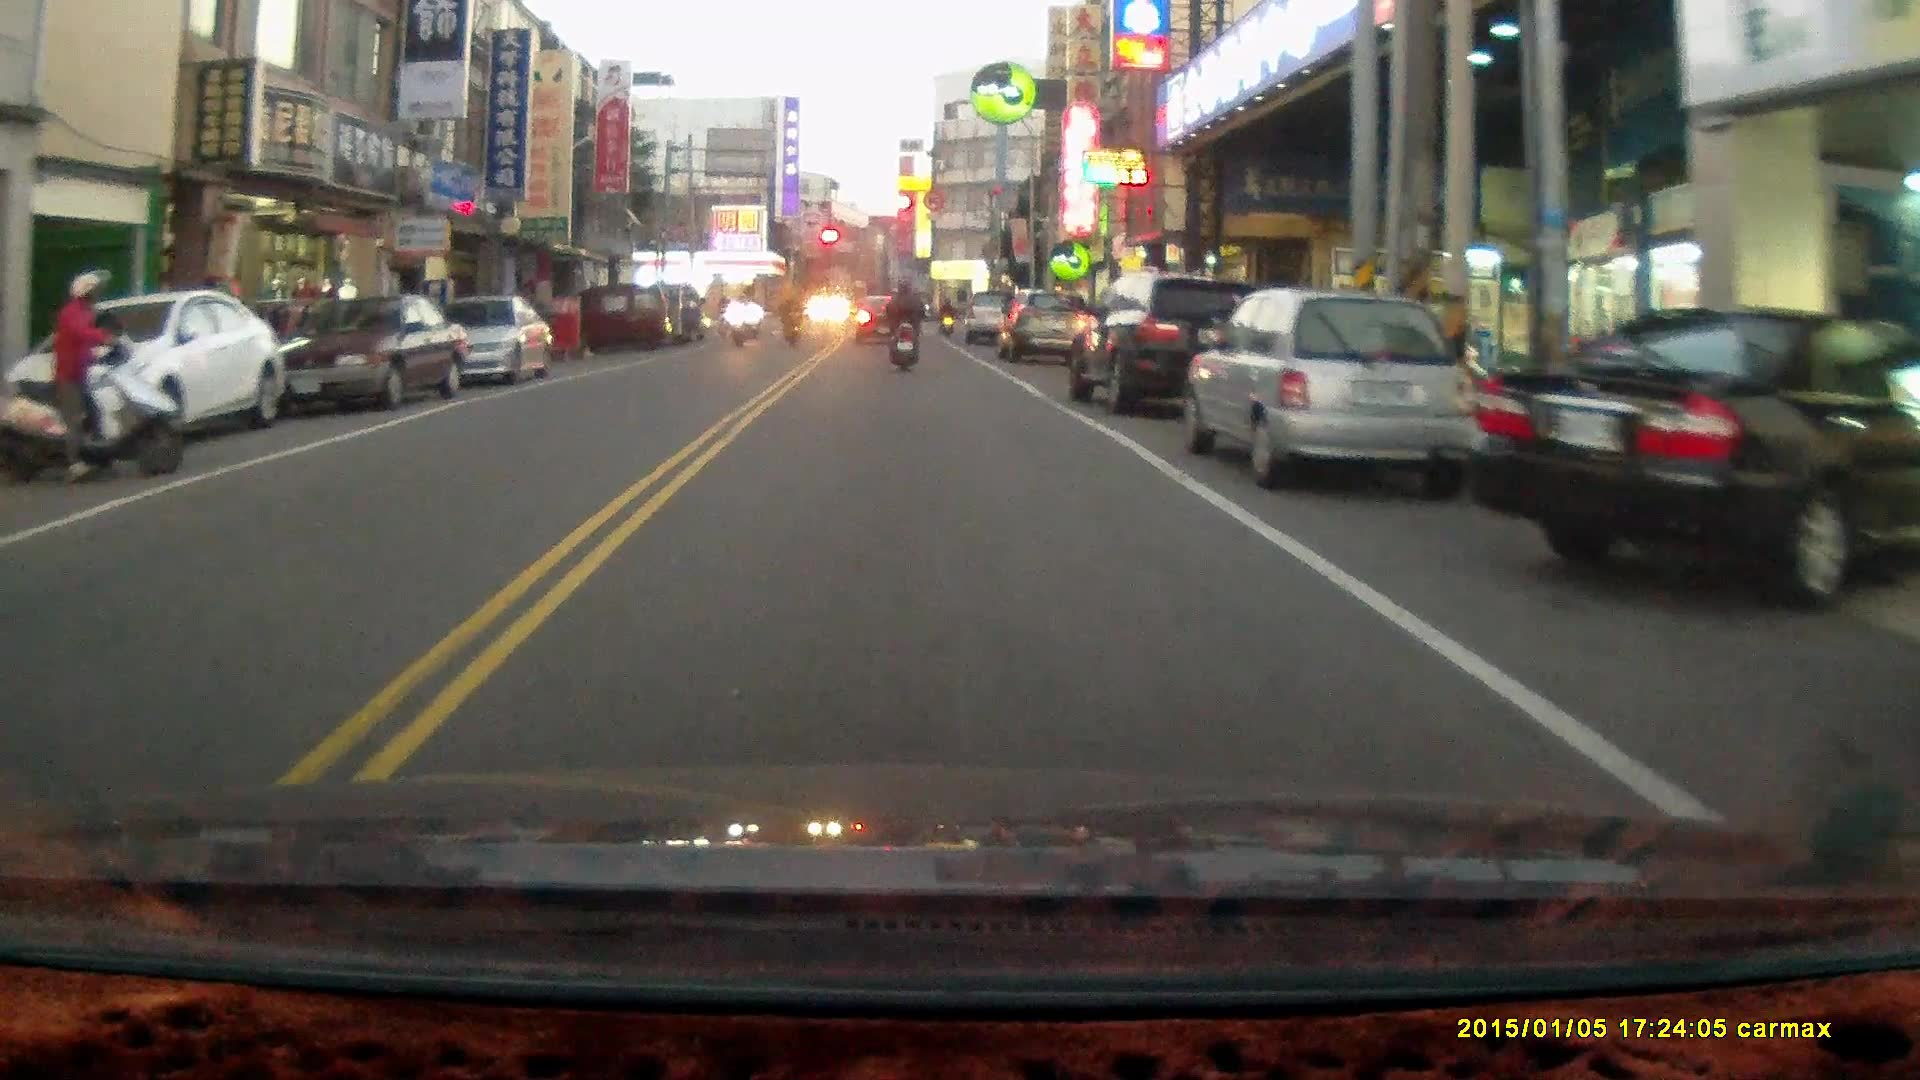rider: (20, 269, 187, 482), (881, 275, 922, 372), (777, 294, 805, 350), (730, 291, 754, 348), (712, 291, 733, 345), (933, 292, 955, 336), (742, 294, 763, 339)
vehicle: (1466, 300, 1920, 613), (1177, 296, 1476, 493), (6, 285, 295, 454), (1065, 274, 1276, 422), (251, 296, 466, 415), (423, 295, 556, 393), (1002, 290, 1086, 365), (589, 290, 670, 356), (960, 288, 1028, 350)
